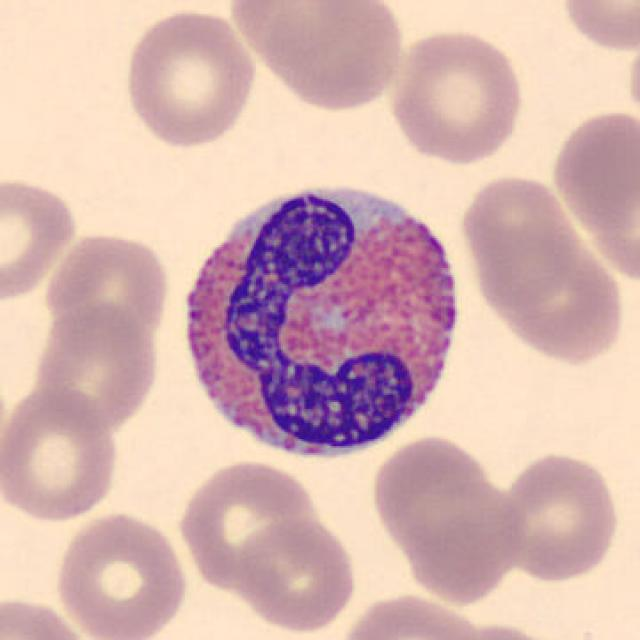Eosinophil: (167, 164, 478, 474)
RBC: (364, 432, 522, 582), (119, 5, 260, 152), (386, 24, 528, 168), (234, 0, 410, 115), (174, 457, 320, 592), (50, 508, 190, 638), (491, 448, 624, 584), (32, 300, 164, 436), (0, 383, 123, 527), (499, 240, 633, 370), (457, 171, 579, 312), (233, 513, 361, 637), (41, 230, 172, 348), (547, 102, 640, 262), (0, 171, 82, 307), (226, 2, 370, 67), (334, 589, 487, 640), (0, 592, 96, 640), (556, 0, 638, 55), (444, 620, 567, 640), (626, 19, 640, 138)
